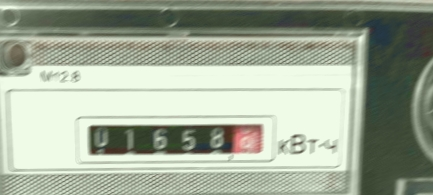0: (93, 123, 107, 145)
1: (123, 125, 134, 148)
5: (180, 125, 195, 148)
6: (151, 125, 166, 147)
8: (208, 123, 223, 146)
9: (236, 132, 251, 153)
screen: (69, 104, 282, 169)
